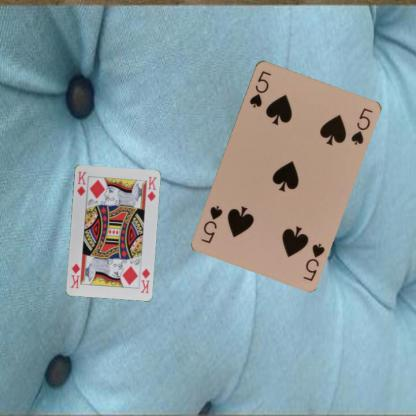5s: (300, 240, 326, 283), (246, 68, 272, 108)
Kd: (74, 169, 87, 197), (138, 266, 151, 294)
